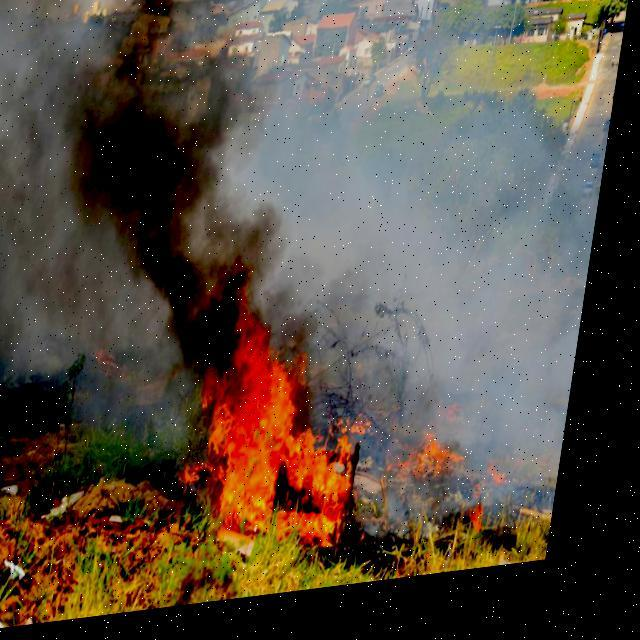Fire: (182, 310, 404, 574), (410, 430, 493, 496), (359, 412, 395, 454), (482, 516, 506, 553), (496, 478, 531, 499)
